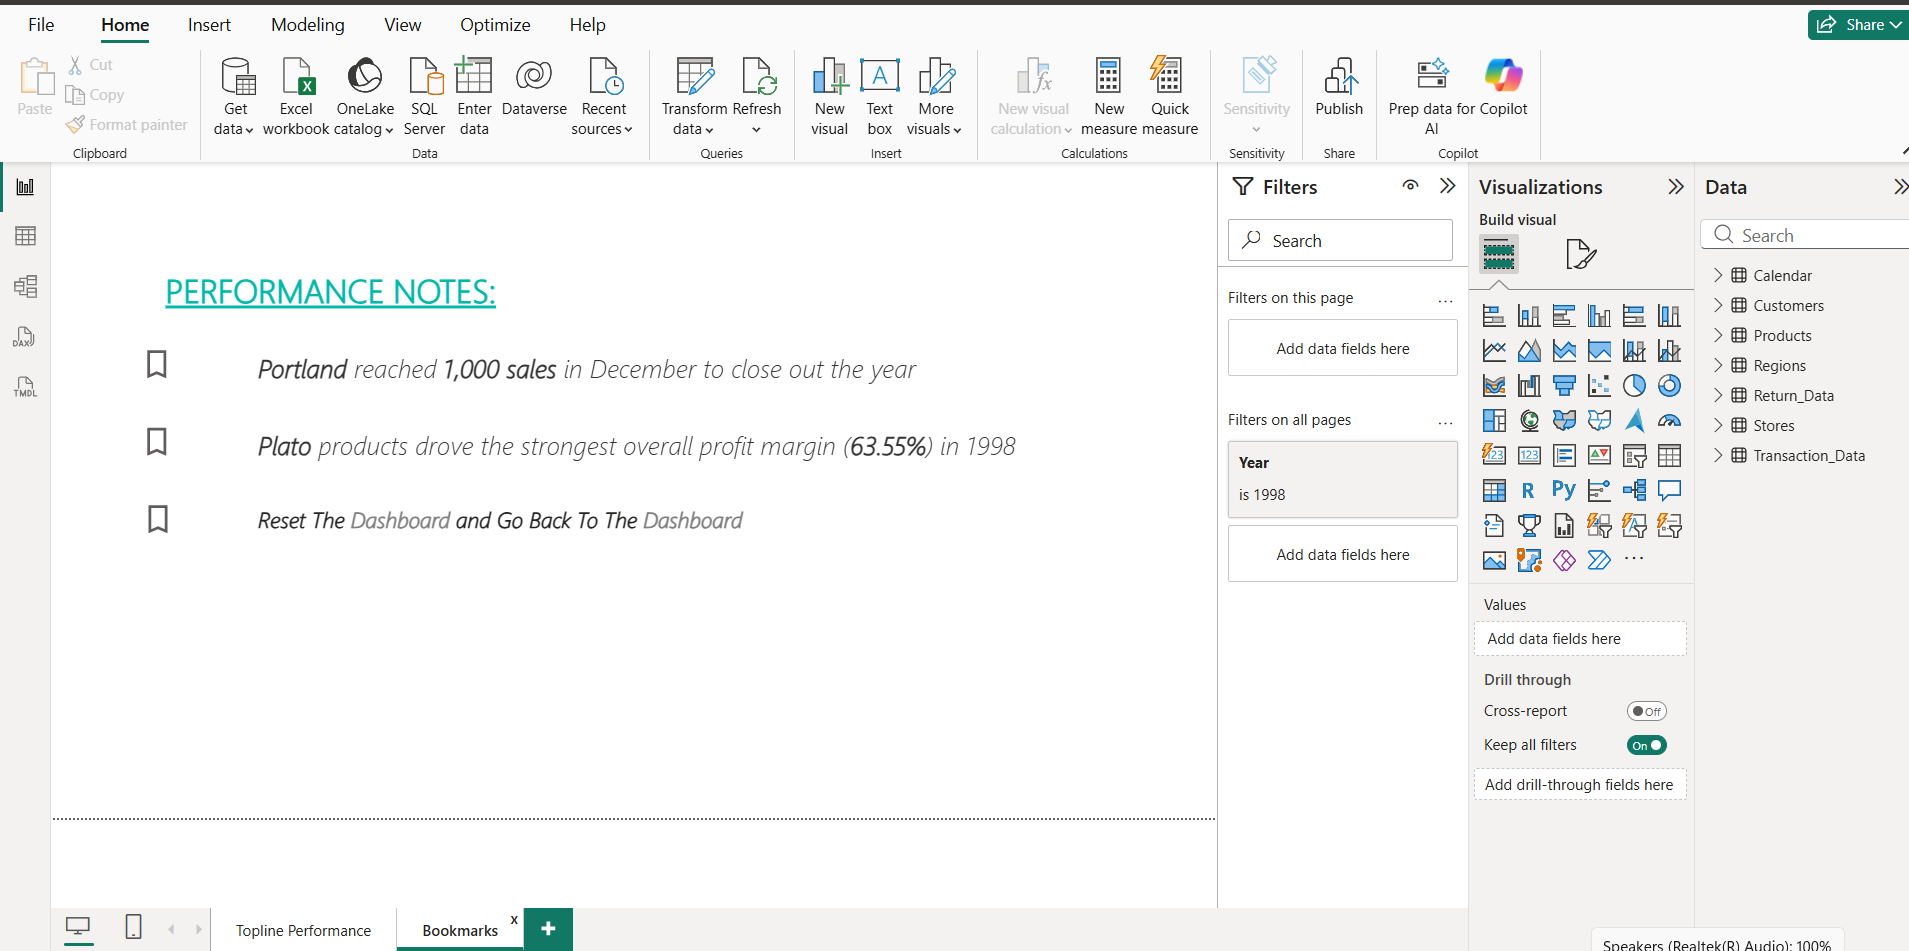

Layout of this report page (visuals, bound fields, positions):
{"tool":"powerbi","page":{"name":"Bookmarks","canvas":[1280,720],"ordinal":1},"visuals":[{"type":"textbox","box":[120.9,111.5,552.1,68.5],"z":0},{"type":"textbox","box":[221.7,201.5,794,73.9],"z":2},{"type":"actionButton","box":[96.7,201.5,49.7,40.3],"z":3},{"type":"textbox","box":[221.7,286.1,863.8,72.5],"z":6},{"type":"actionButton","box":[95.4,286.1,49.7,40.3],"z":7},{"type":"actionButton","box":[98.1,372.1,49.7,40.3],"z":9},{"type":"textbox","box":[221.7,372.1,552.1,60.5],"z":10}]}

Visuals, with their boxes on the page's 1280x720 design canvas (x1, y1, x2, y2). These are canvas units, not pixel positions in the 1909x951 screenshot, which may show the page scaled, cropped or inside an application window:
textbox: rect(121, 112, 673, 180)
textbox: rect(222, 202, 1016, 275)
actionButton: rect(97, 202, 146, 242)
textbox: rect(222, 286, 1086, 359)
actionButton: rect(95, 286, 145, 326)
actionButton: rect(98, 372, 148, 412)
textbox: rect(222, 372, 774, 433)
